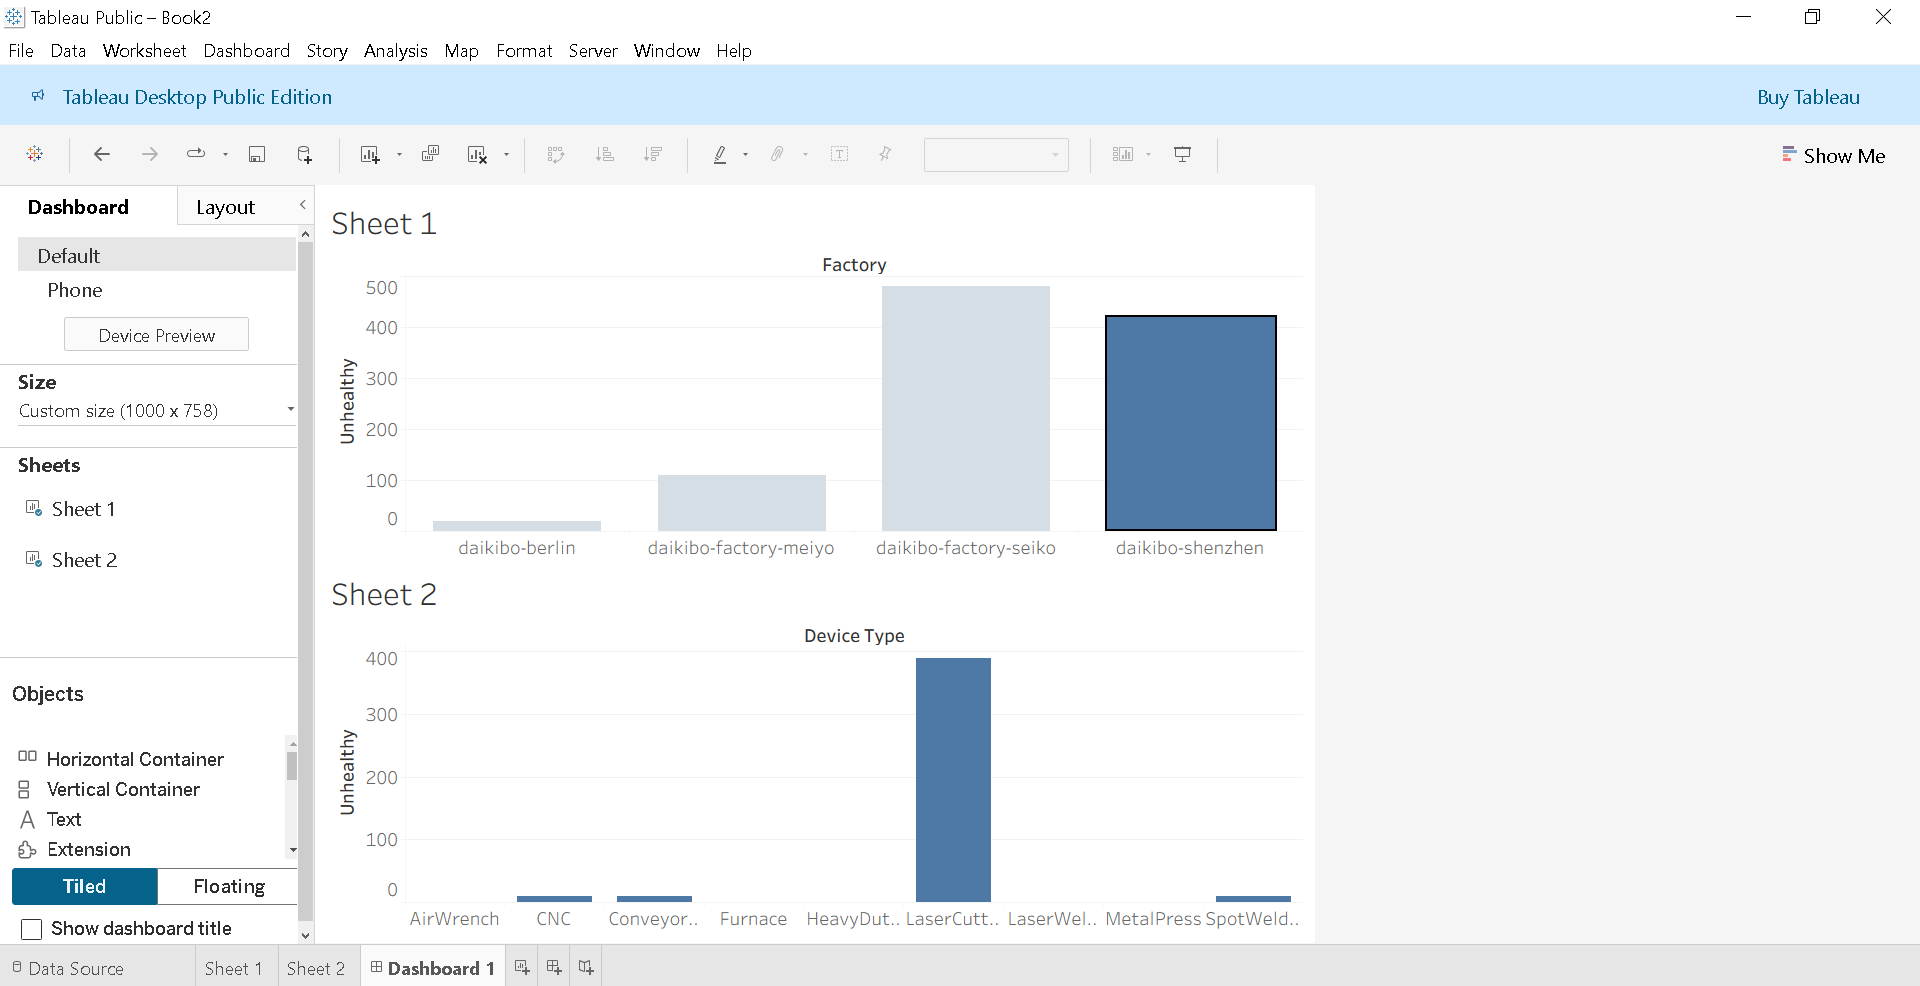

Layout of this report page (visuals, bound fields, positions):
{"tool":"tableau","page":{"name":"Dashboard 1","canvas":[1000,758],"ordinal":0},"visuals":[{"type":"worksheet","title":"Sheet 1","mark":"Automatic","rows":["Calculation_202943522216562688"],"cols":["factory"],"box":[8,8,984,371]},{"type":"worksheet","title":"Sheet 2","mark":"Automatic","rows":["Calculation_202943522216562688"],"cols":["deviceType"],"box":[8,379,984,371]}]}

Visuals, with their boxes on the page's 1000x758 design canvas (x1, y1, x2, y2). These are canvas units, not pixel positions in the 1920x986 screenshot, which may show the page scaled, cropped or inside an application window:
"Sheet 1" worksheet: 8/8/992/379
"Sheet 2" worksheet: 8/379/992/750
